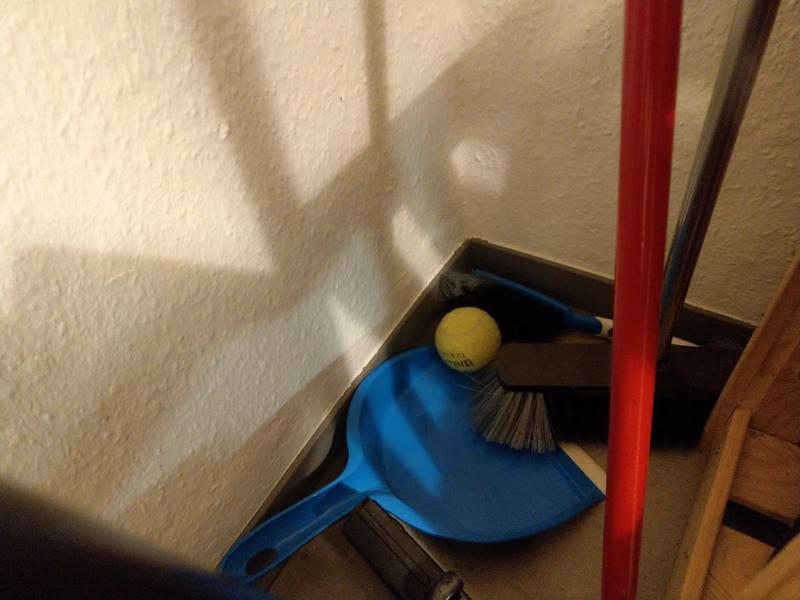Tennisball: (433, 304, 503, 375)
